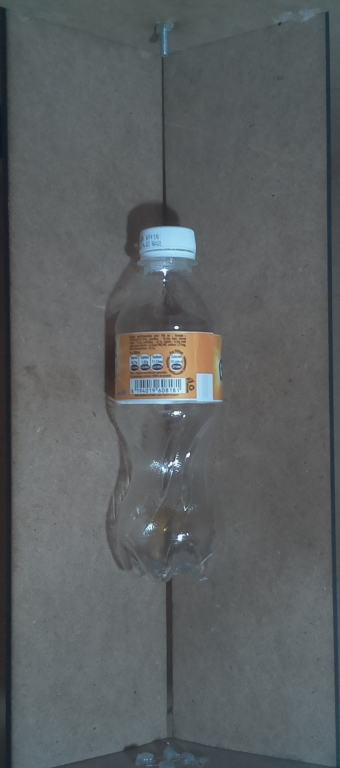Bouteille_0.3L: (96, 214, 241, 592)
